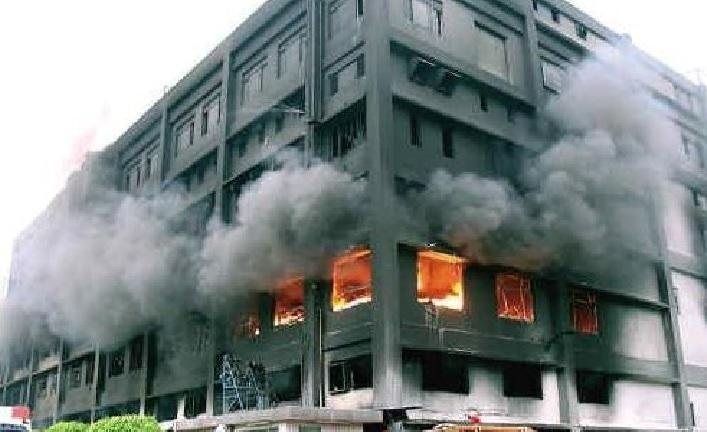fire: (415, 246, 465, 308), (332, 246, 374, 308), (495, 266, 533, 319), (272, 276, 308, 324)
